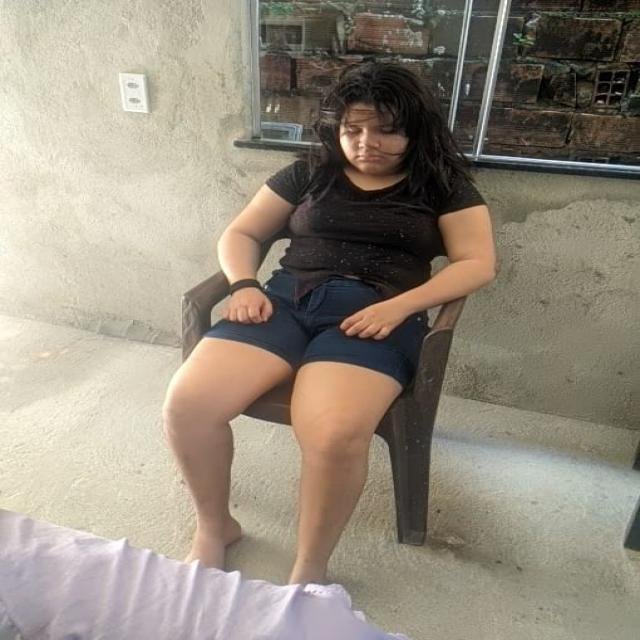sentado: (163, 60, 497, 584)
